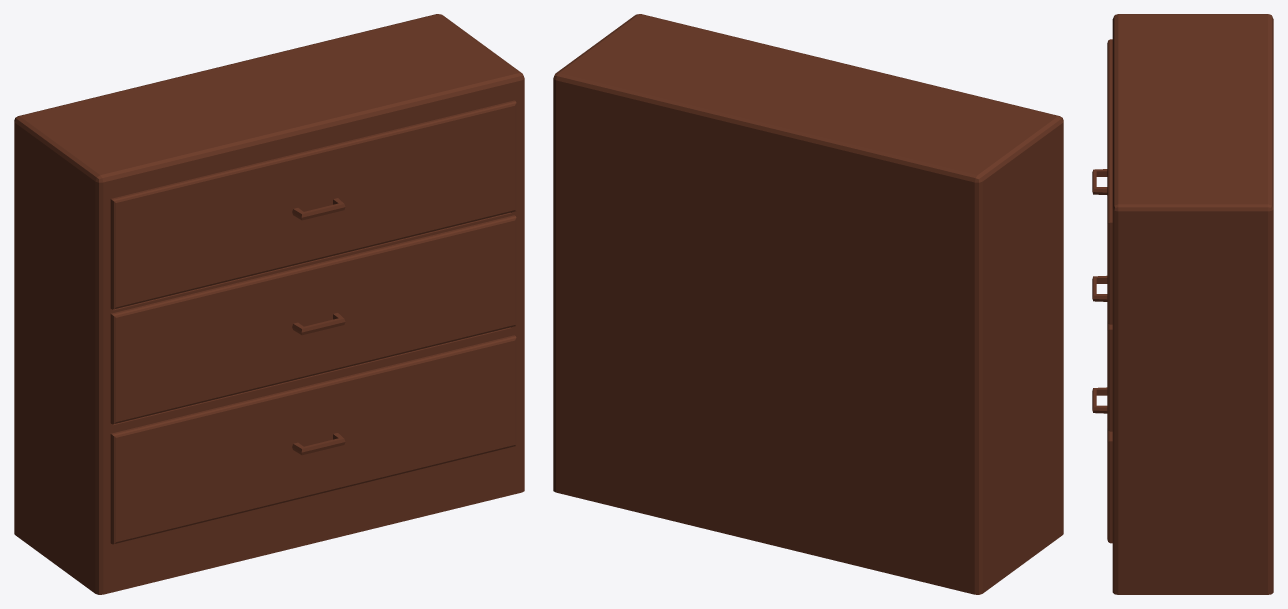
The model's file is Cabinet.fbx.
3 views of the same model, side by side, from view 1: azimuth 30°, elevation 25°; view 2: azimuth 150°, elevation 25°; view 3: azimuth 270°, elevation 25° (orthographic). The views are drawn at different scales.
Visible parts, largest first — view 1: Cabinet, DrawerTop, DrawerMiddle, DrawerBottom; view 2: Cabinet; view 3: Cabinet, DrawerTop, DrawerBottom, DrawerMiddle.
Boxes of the visible parts, left/top/right/bottom form: Cabinet: left=14, top=14, right=524, bottom=594; DrawerTop: left=110, top=100, right=516, bottom=309; DrawerMiddle: left=110, top=215, right=516, bottom=424; DrawerBottom: left=110, top=335, right=516, bottom=544; Cabinet: left=553, top=14, right=1063, bottom=594; Cabinet: left=1112, top=14, right=1273, bottom=594; DrawerTop: left=1092, top=39, right=1112, bottom=324; DrawerBottom: left=1092, top=387, right=1112, bottom=543; DrawerMiddle: left=1092, top=275, right=1112, bottom=431.
Size of the model in its own units: 86 by 80 by 33.8.
